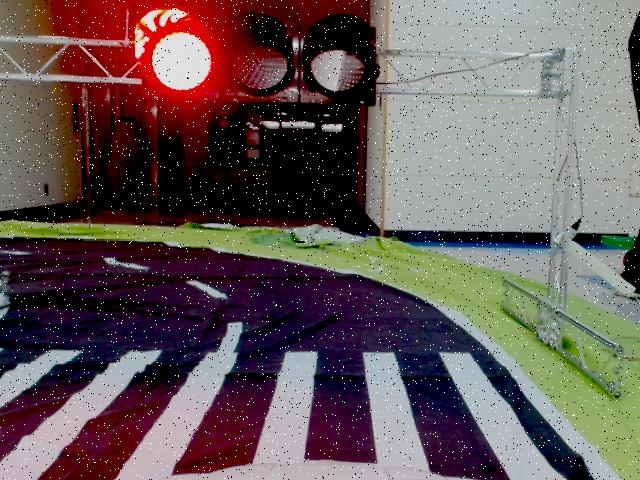crosswalk: (0, 344, 575, 480)
traffic light-red-: (135, 9, 376, 106)
